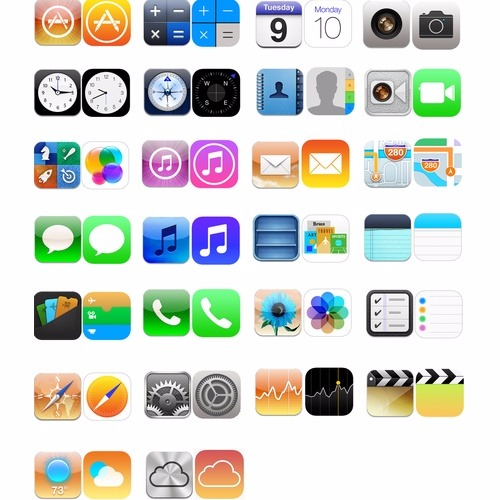calendar: (303, 0, 351, 48), (255, 0, 302, 47)
camera: (362, 0, 411, 48), (412, 0, 460, 49), (412, 68, 460, 117), (363, 68, 411, 116)
clock: (82, 68, 130, 116), (34, 69, 79, 115)
mail: (251, 140, 299, 188), (301, 139, 348, 187)
message: (81, 215, 130, 263), (34, 215, 80, 263)
phone: (191, 289, 239, 337), (144, 289, 189, 336)
